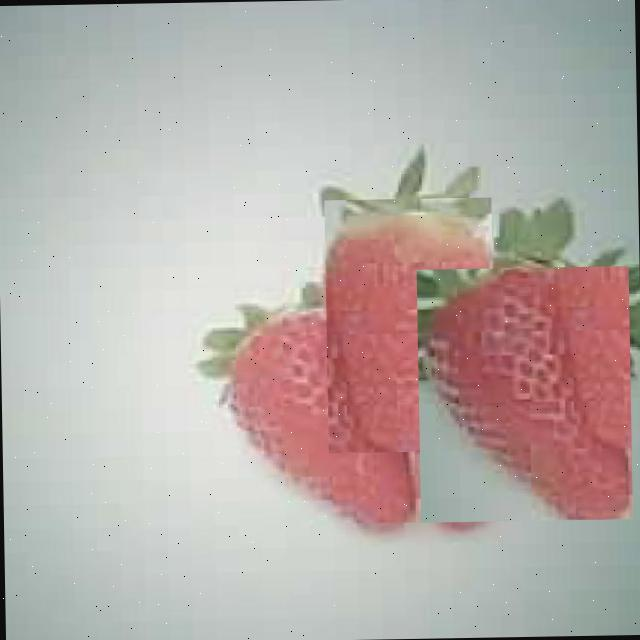ripe: (417, 266, 632, 522), (324, 197, 495, 453), (226, 305, 415, 532)
